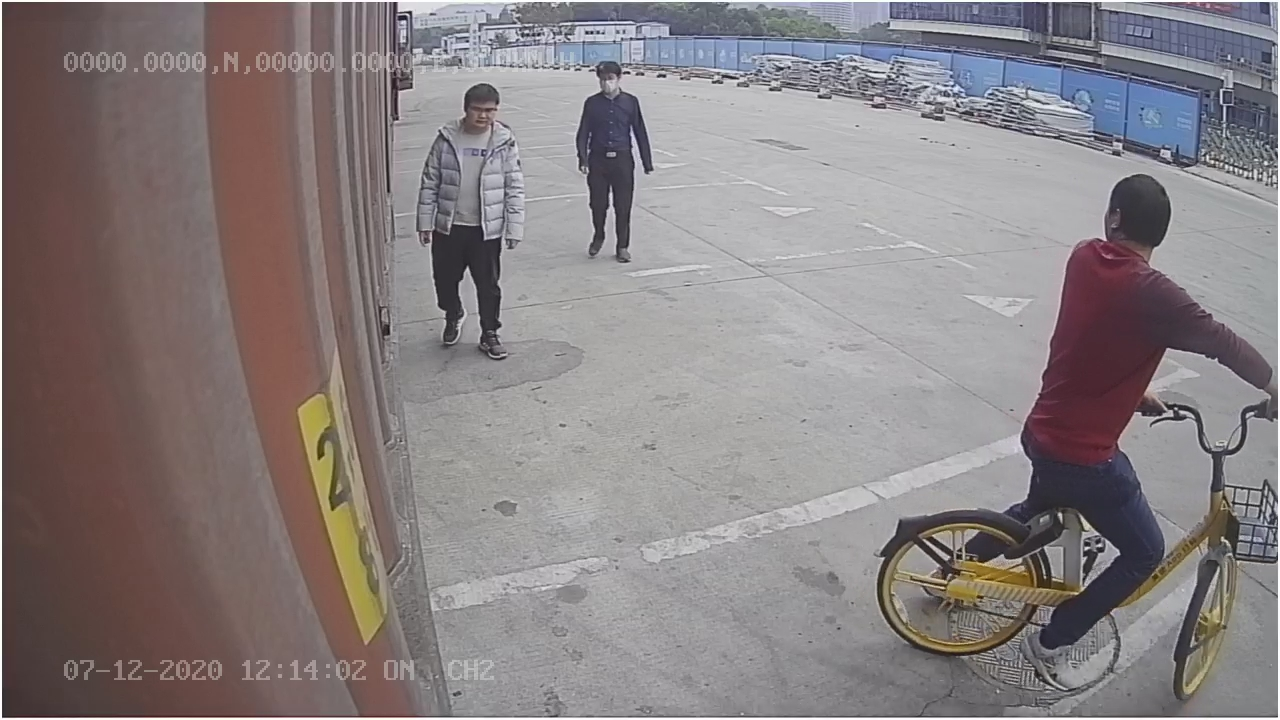person: (409, 79, 523, 362), (553, 57, 660, 267)
